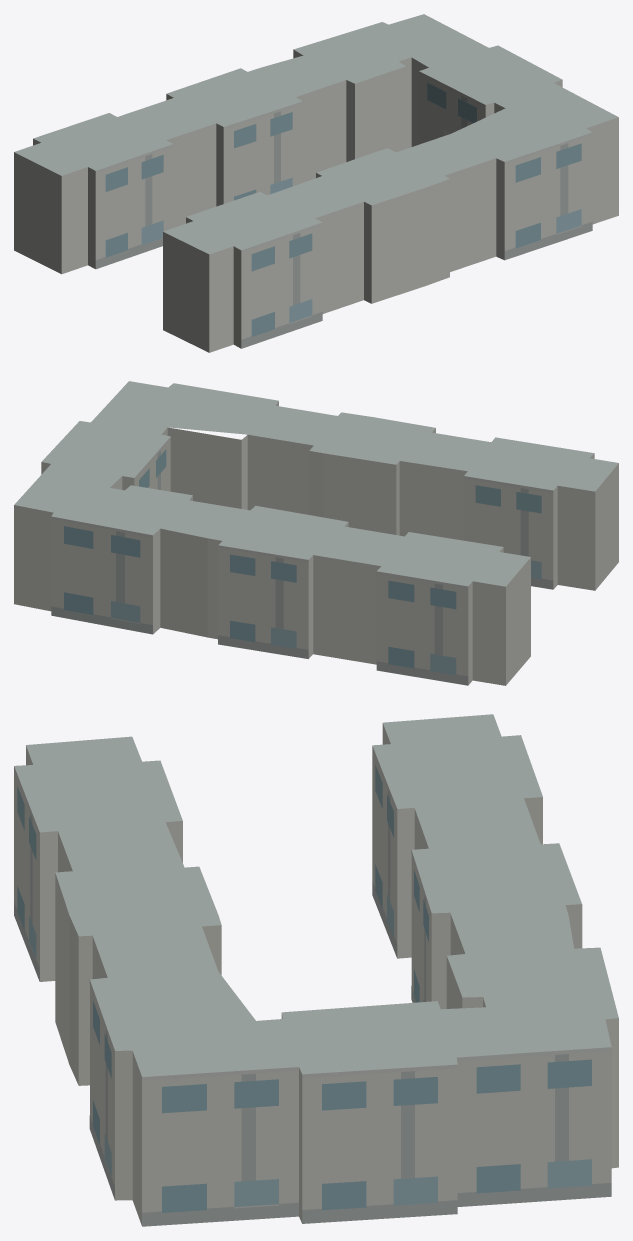
File: survey-upis-32577510.glb
The picture shows the model from 3 angles, top to bottom: view 1: azimuth 30°, elevation 25°; view 2: azimuth 150°, elevation 25°; view 3: azimuth 270°, elevation 25°; orthographic projection. The views are drawn at different scales.
Visible parts, largest first — view 1: survey-upis-32577510.tmp; view 2: survey-upis-32577510.tmp; view 3: survey-upis-32577510.tmp.
Boxes of the visible parts, x1,y1,x2,y2 form: survey-upis-32577510.tmp: (14,14,618,352); survey-upis-32577510.tmp: (14,381,618,685); survey-upis-32577510.tmp: (14,714,618,1226).
Size of the model in its own units: 47.62 by 9.15 by 33.54.
